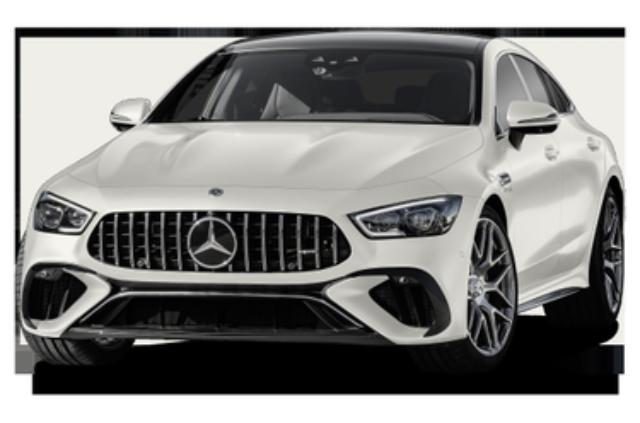benz: (15, 27, 625, 367)
